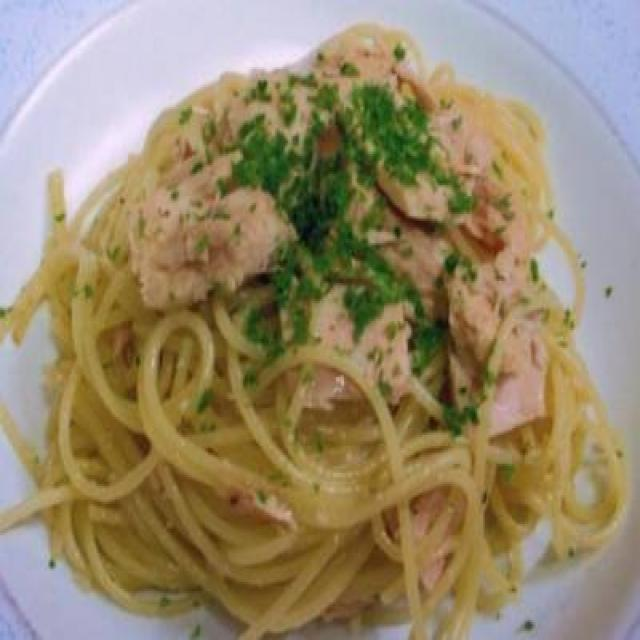Oil pasta: (34, 33, 592, 639)
